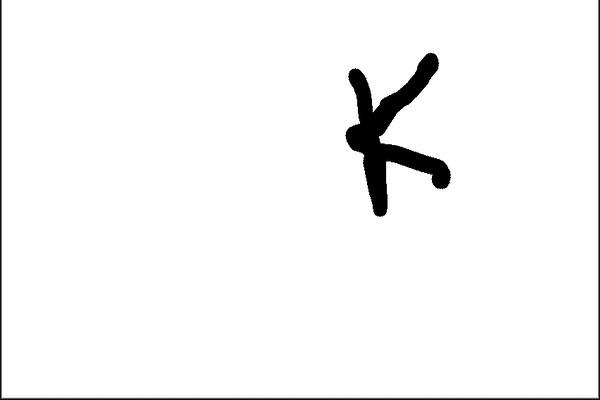K: (341, 45, 458, 221)
